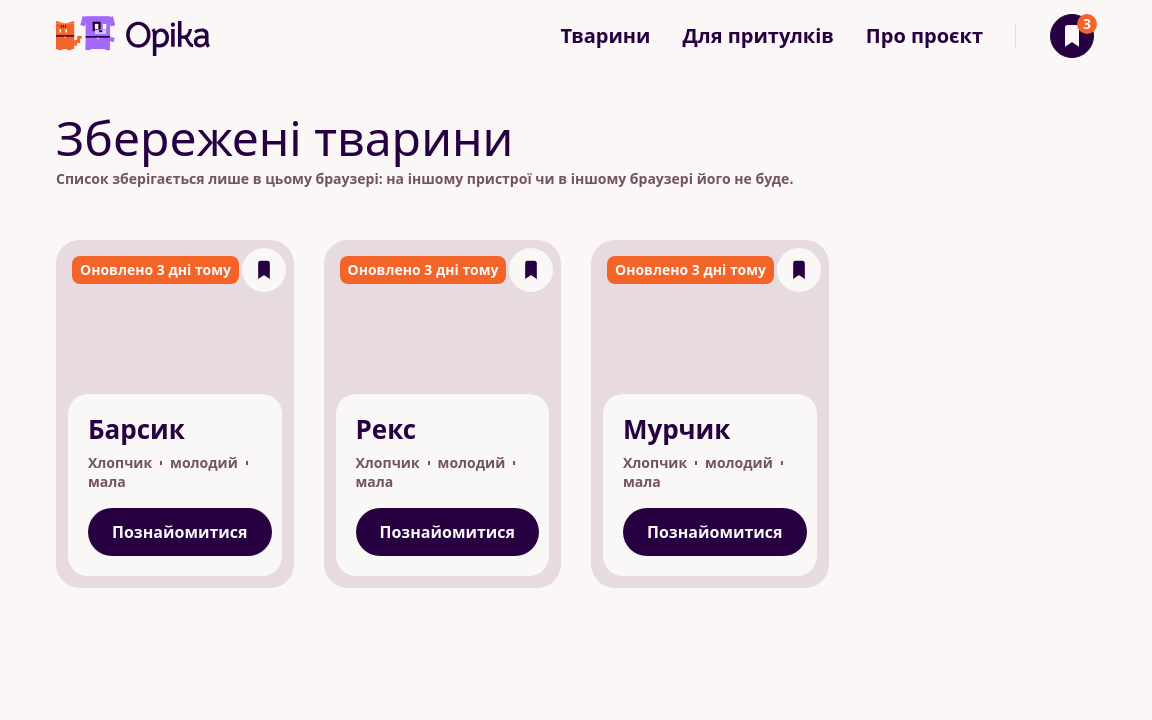
Scenario: saved page – the remove bookmark › «Повернути» puts the card back in the same position, with no new request
The width and height of the screenshot is (1152, 720).
Expected: the link "Барсик" is shown, [56, 240, 294, 588]
Click the 2nd button named "Прибрати зі збережених": coordinates (531, 270) [509, 248, 553, 292]
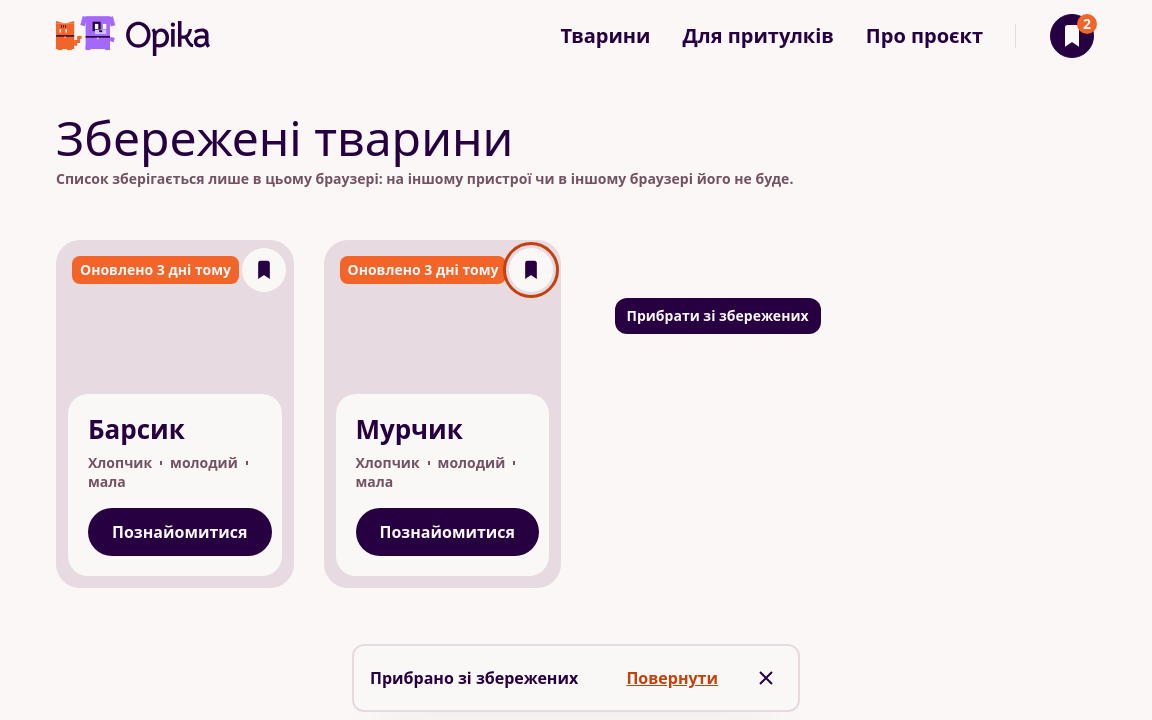
Click the button "Повернути": coordinates (672, 678) [614, 654, 730, 702]
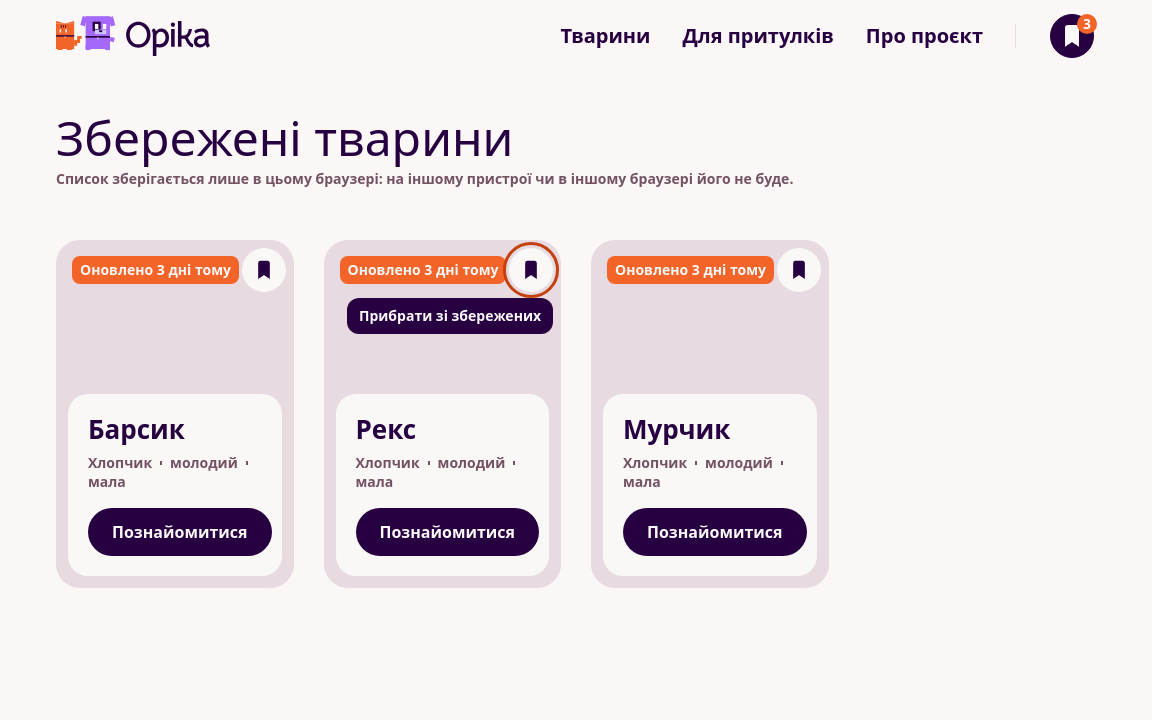
Result: the button "Повернути" is gone
